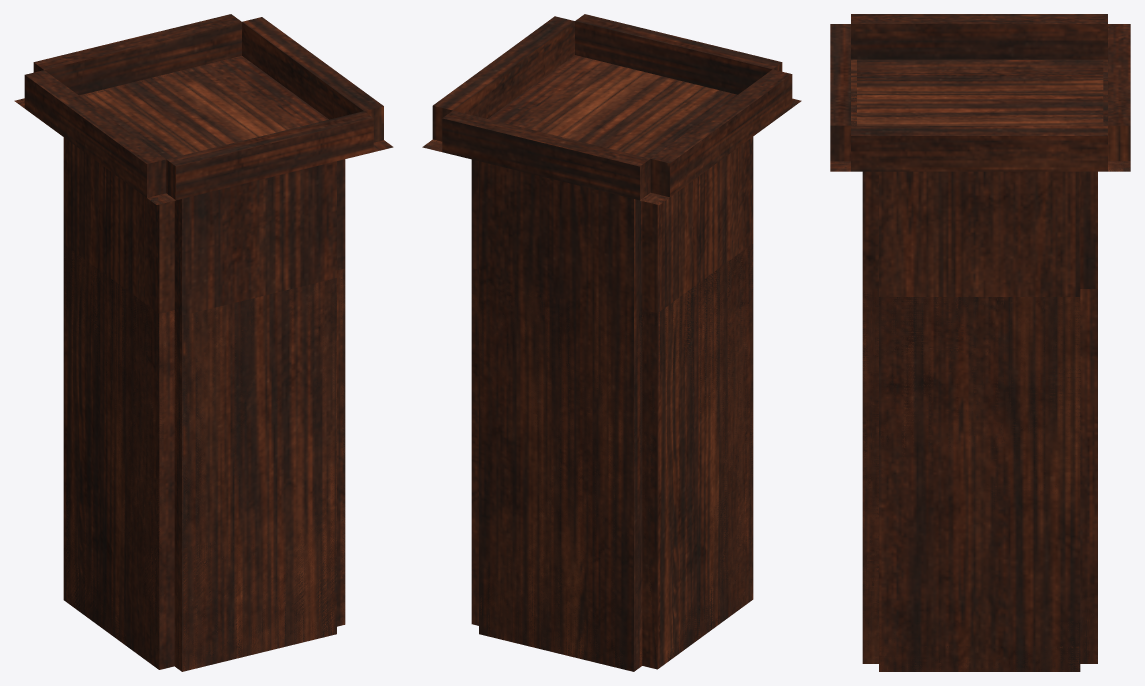
The model's file is pillar.glb.
3 views of the same model, side by side, from view 1: azimuth 30°, elevation 25°; view 2: azimuth 150°, elevation 25°; view 3: azimuth 270°, elevation 25° (orthographic). The views are drawn at different scales.
Parts seen in each view (by area): view 1: Cube; view 2: Cube; view 3: Cube.
Boxes of the visible parts, x1,y1,x2,y2 form: Cube: (14, 14, 393, 671); Cube: (422, 14, 801, 671); Cube: (830, 14, 1130, 671).
Bounding box in the file's own units: 59.19 × 124 × 61.59.
1 material, 1 textured.
